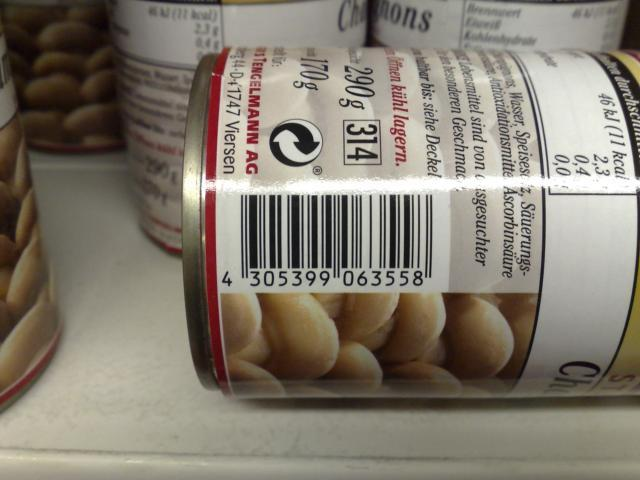Barcode: (219, 181, 448, 292)
